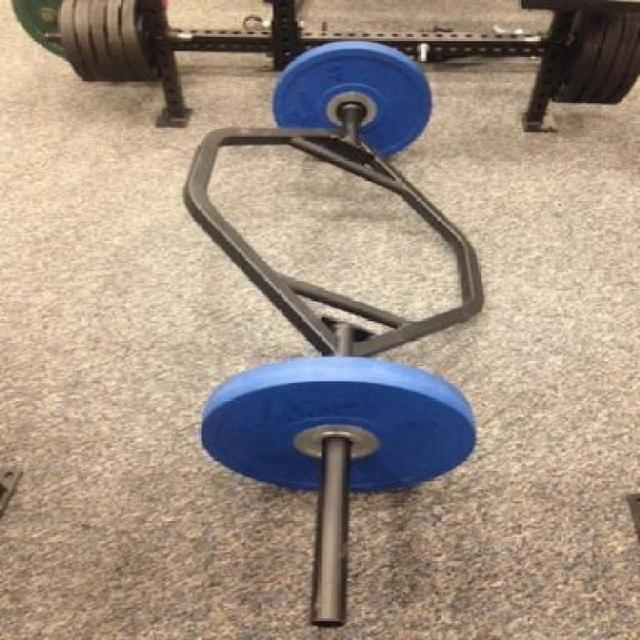Barbell: (282, 590, 358, 638)
